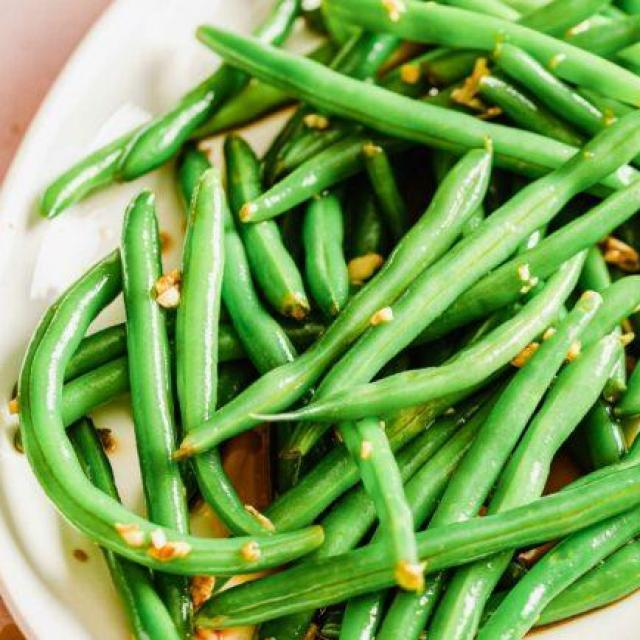Beans: (8, 0, 639, 639)
